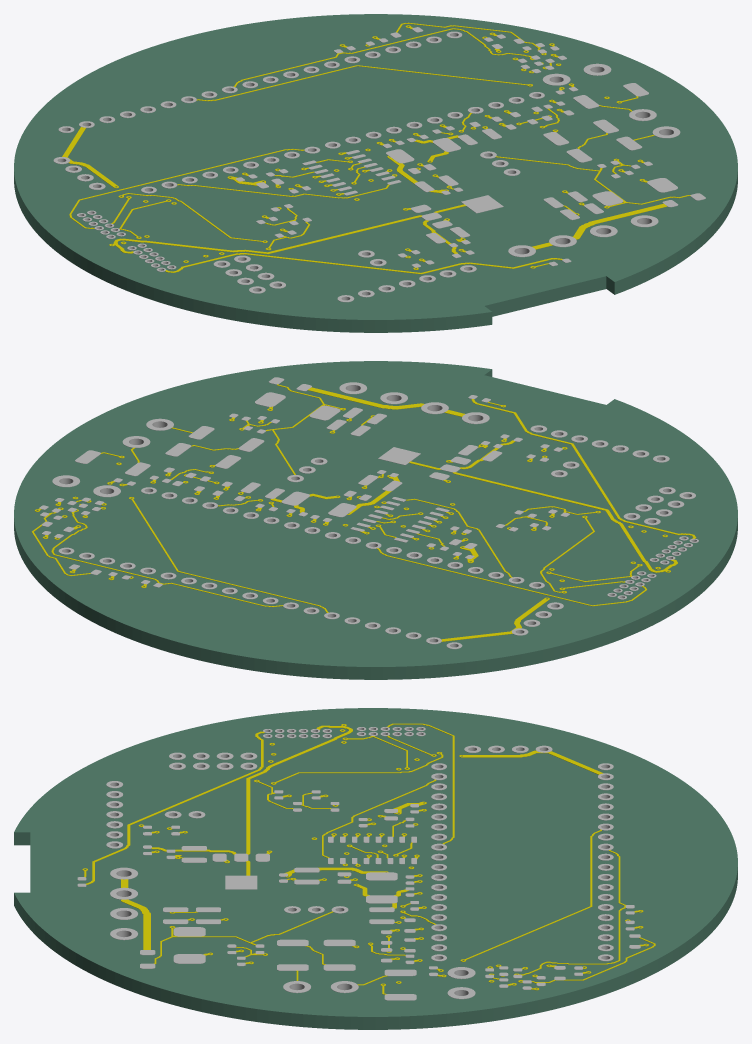
The model's file is CB1D_with_components.glb.
3 views of the same model, one above another, from view 1: azimuth 30°, elevation 25°; view 2: azimuth 150°, elevation 25°; view 3: azimuth 270°, elevation 25° (orthographic).
Parts seen in each view (by area): view 1: =>[0:1:1:5], =>[0:1:1:3], =>[0:1:1:2]; view 2: =>[0:1:1:5], =>[0:1:1:3], =>[0:1:1:2]; view 3: =>[0:1:1:5], =>[0:1:1:3], =>[0:1:1:2].
Part boxes in pixels (x1,y1,x2,y2): =>[0:1:1:5]: (14, 14, 737, 332); =>[0:1:1:3]: (53, 27, 705, 302); =>[0:1:1:2]: (62, 22, 690, 274); =>[0:1:1:5]: (14, 361, 737, 679); =>[0:1:1:3]: (39, 377, 698, 649); =>[0:1:1:2]: (32, 384, 696, 641); =>[0:1:1:5]: (14, 708, 737, 1029); =>[0:1:1:3]: (77, 727, 640, 1000); =>[0:1:1:2]: (82, 723, 655, 994).
Size of the model in its own units: 0.078 by 0.00161 by 0.0772.
